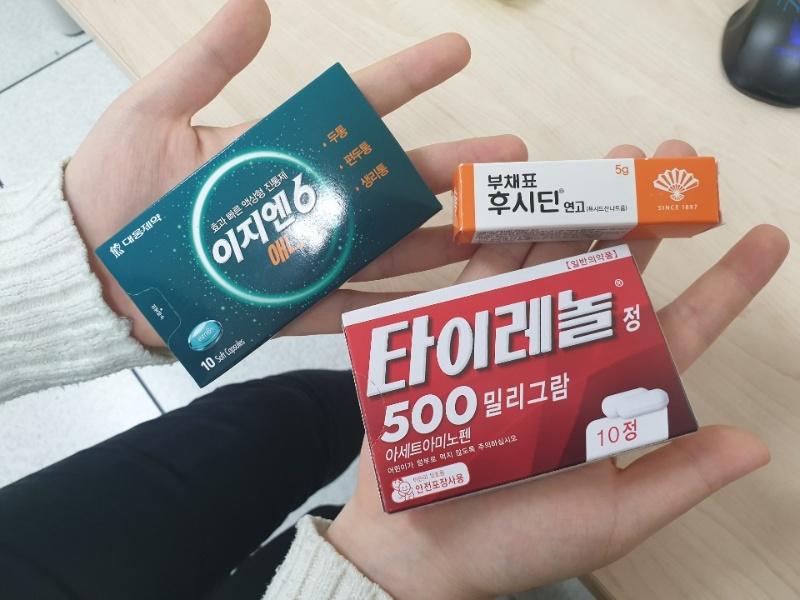ezn: (97, 63, 444, 386)
fucidin: (456, 158, 723, 228)
tylenol: (342, 241, 701, 514)
